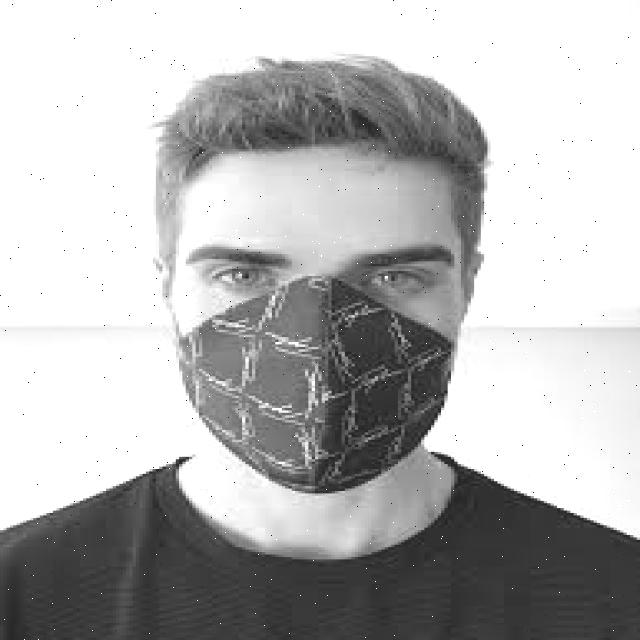fake: (174, 280, 462, 499)
real: (172, 154, 465, 500)
